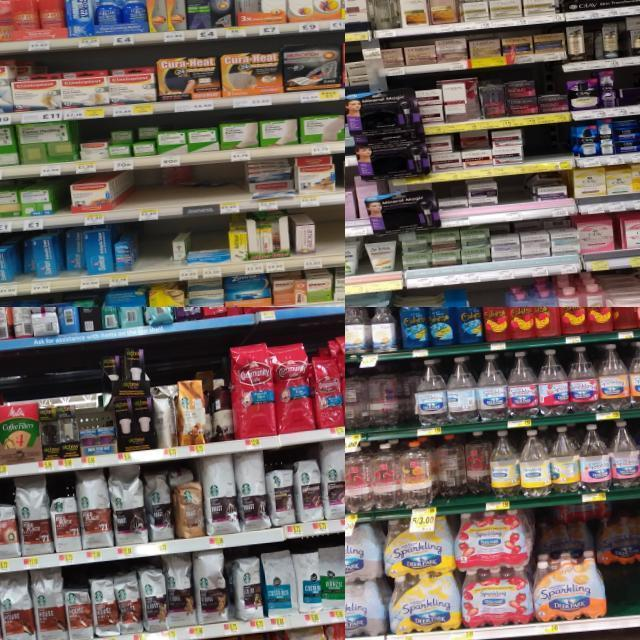Imprecise: (530, 504, 607, 630), (347, 363, 422, 429), (425, 427, 489, 498), (597, 509, 640, 612), (107, 119, 160, 153), (58, 232, 84, 278), (10, 238, 36, 280), (456, 132, 486, 168)
